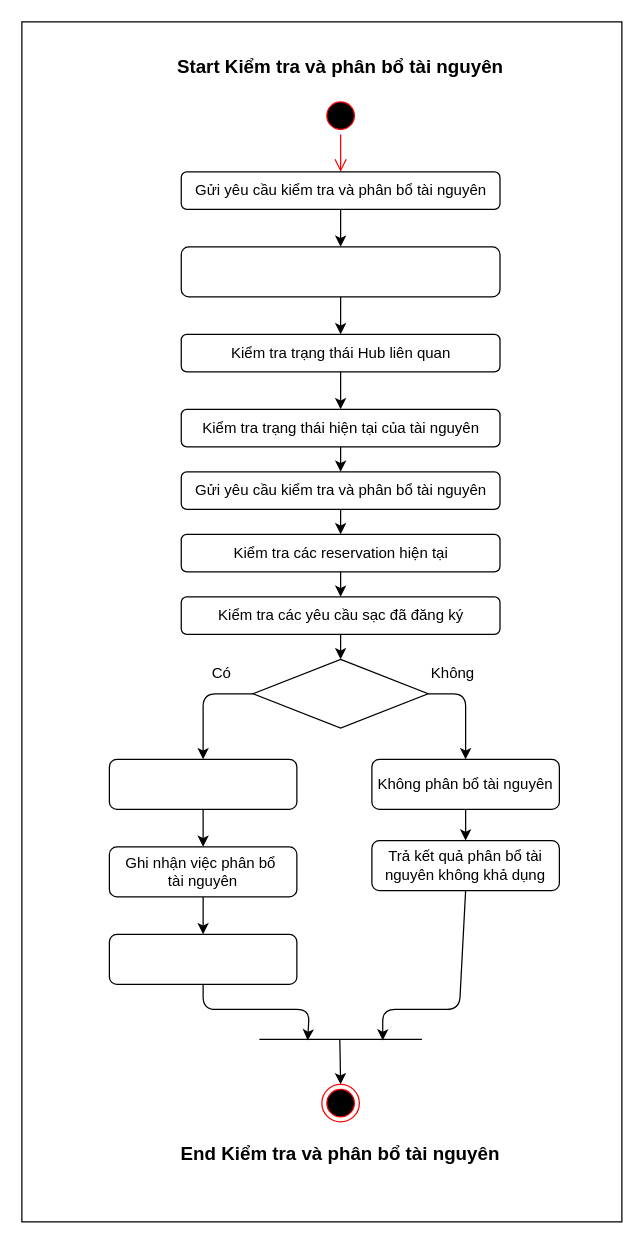
The diagram is 644 pixels wide and 1244 high, and some of its shapes have lost their labels. Here are the shapes that lost their labels. From the top down, the box of each, then its label:
(180, 246, 500, 297): Hệ thống xác định loại tài nguyên được yêu cầu
(252, 658, 428, 728): Tài nguyên khả dụng
(108, 758, 297, 809): Khóa phân bổ tài nguyên
(108, 933, 297, 984): Trả kết quả phân bổ tài nguyên thành công
